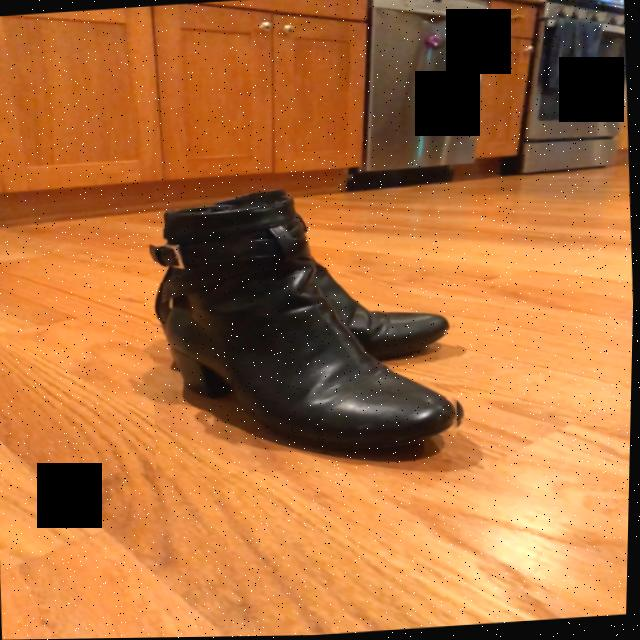shoe: (151, 191, 462, 464), (321, 271, 455, 363)
